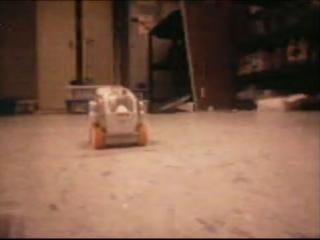cozmo: (86, 84, 148, 149)
